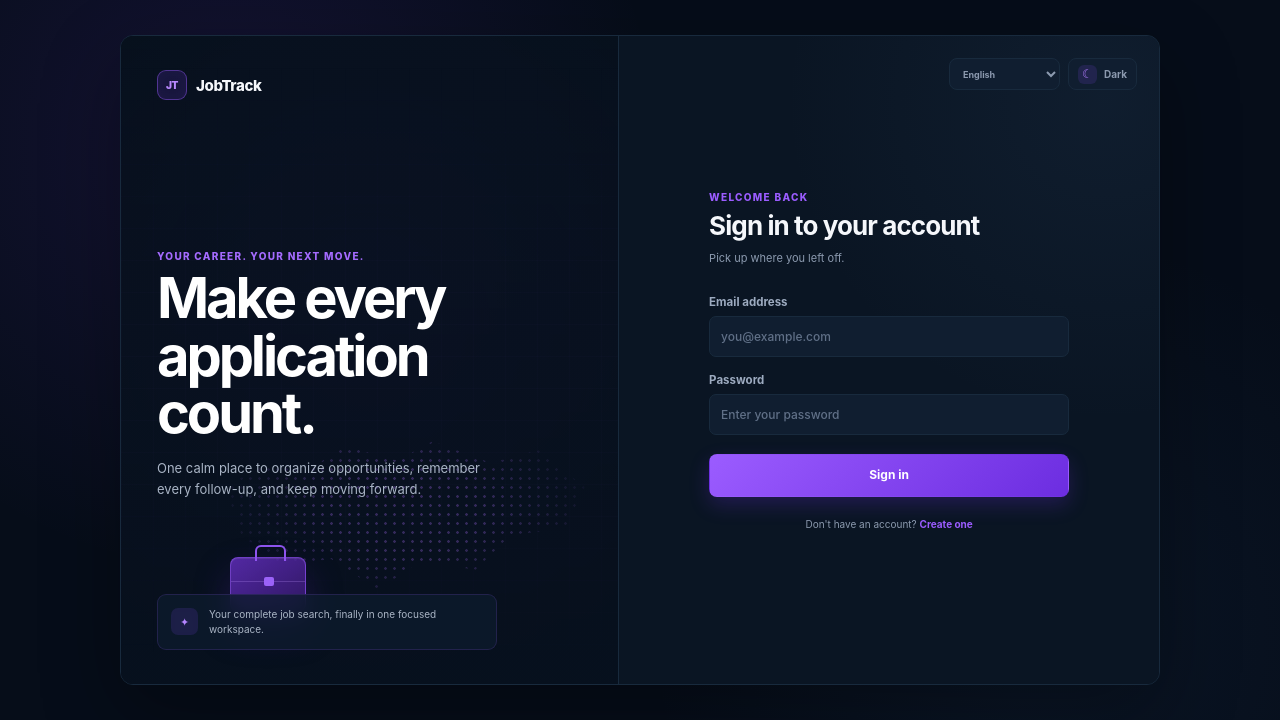
LoginPage › shows an authentication error
The width and height of the screenshot is (1280, 720).
In the field labelled "Email address": (889, 336) [709,316,1069,357], type "test@example.com"
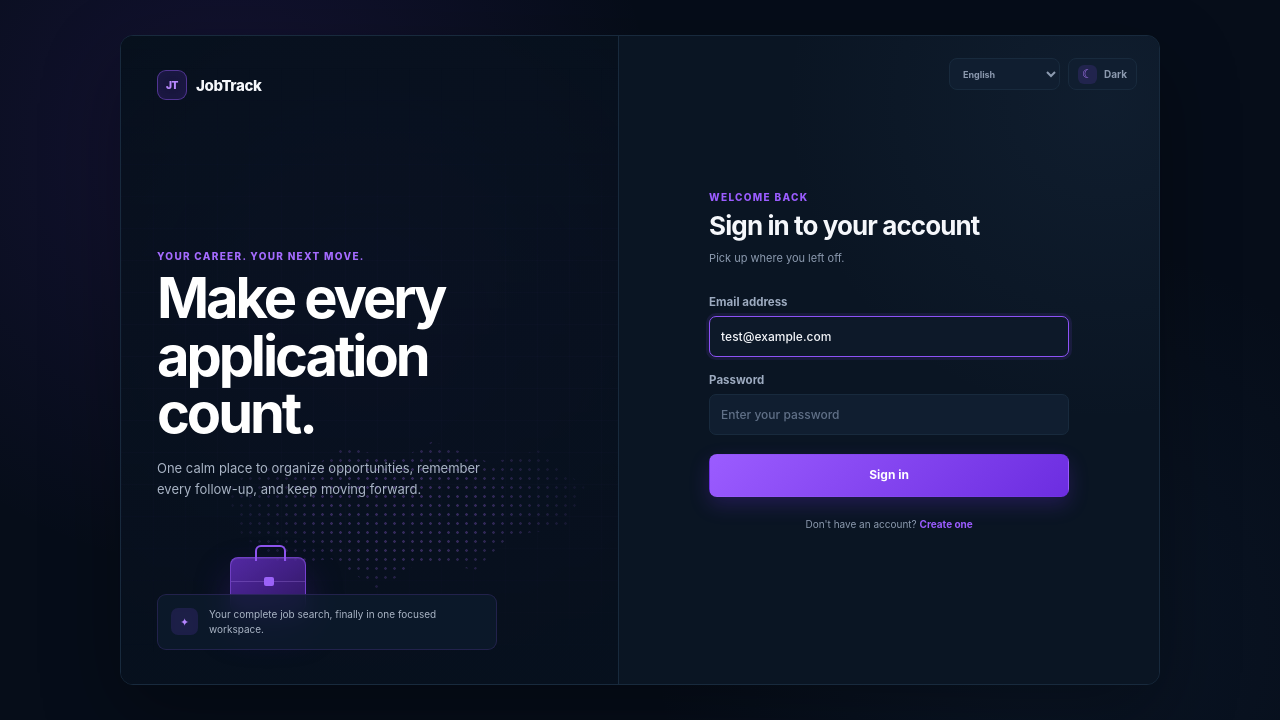
In the password field labelled "Password": (889, 414) [709,394,1069,435], type "wrong-password"
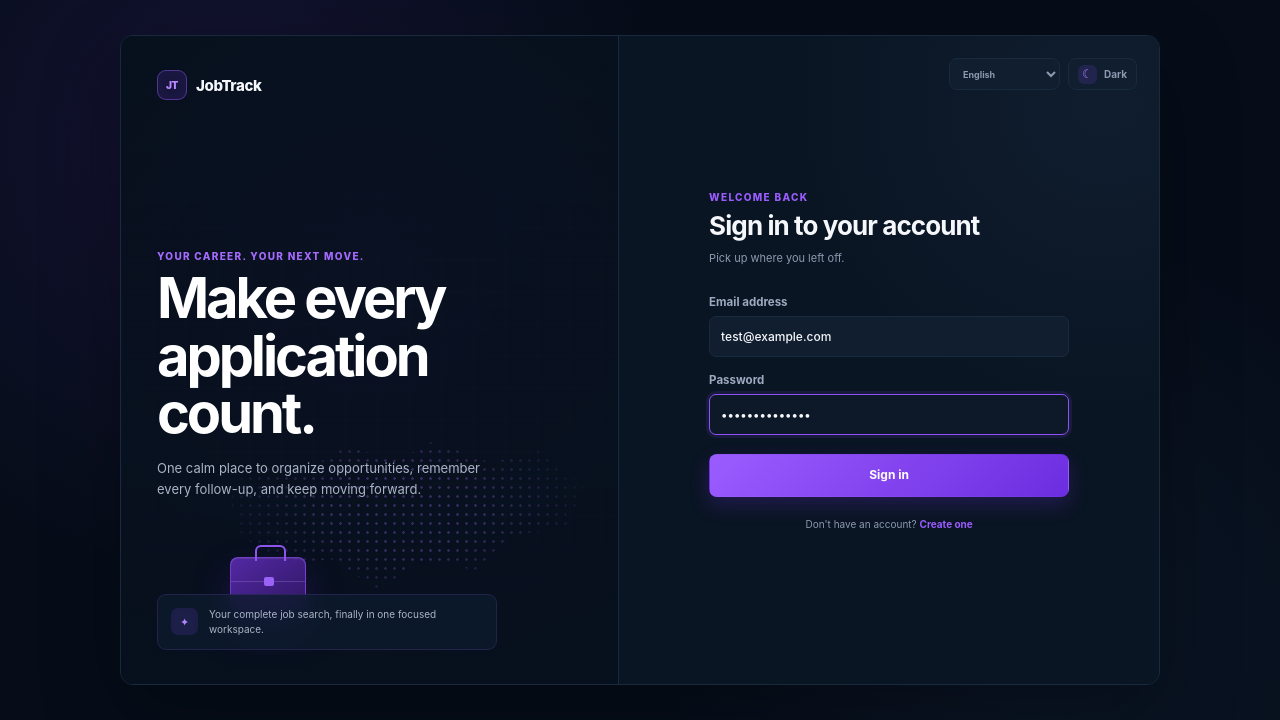
Click the button "Sign in": (889, 476) [709,454,1069,497]
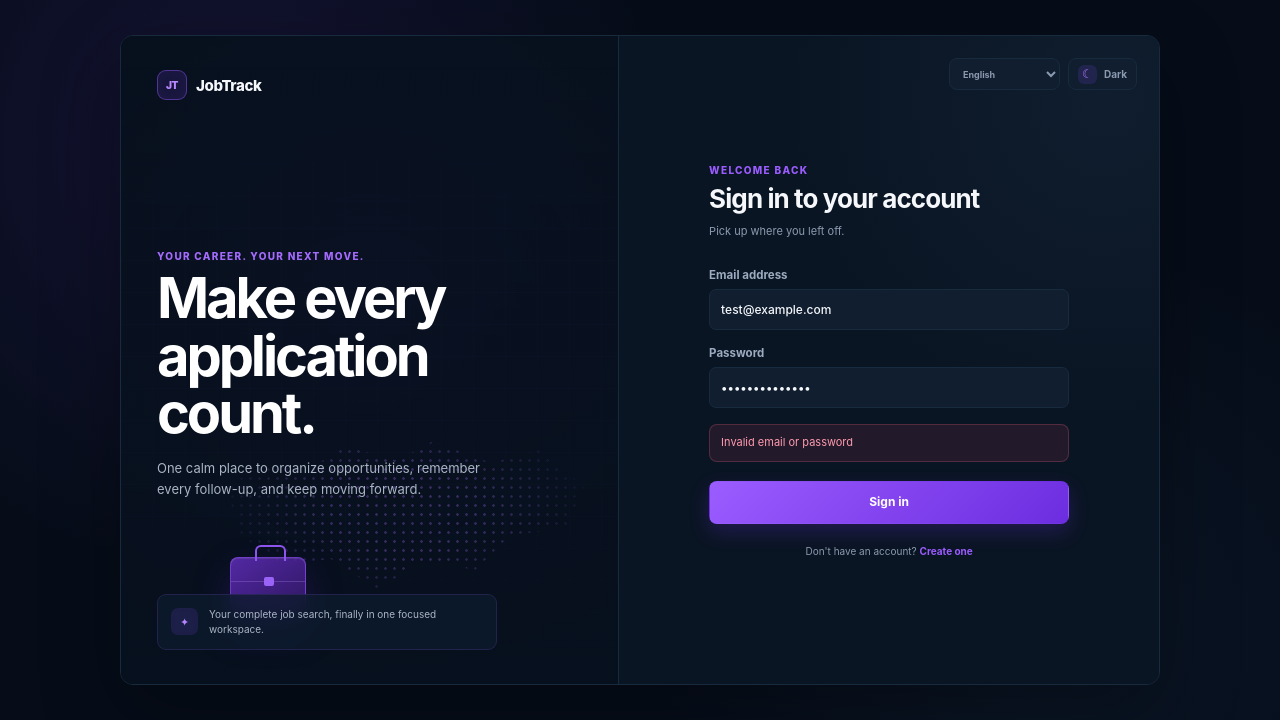
Expected: the message reads "Invalid email or password", [721,435,853,449]
